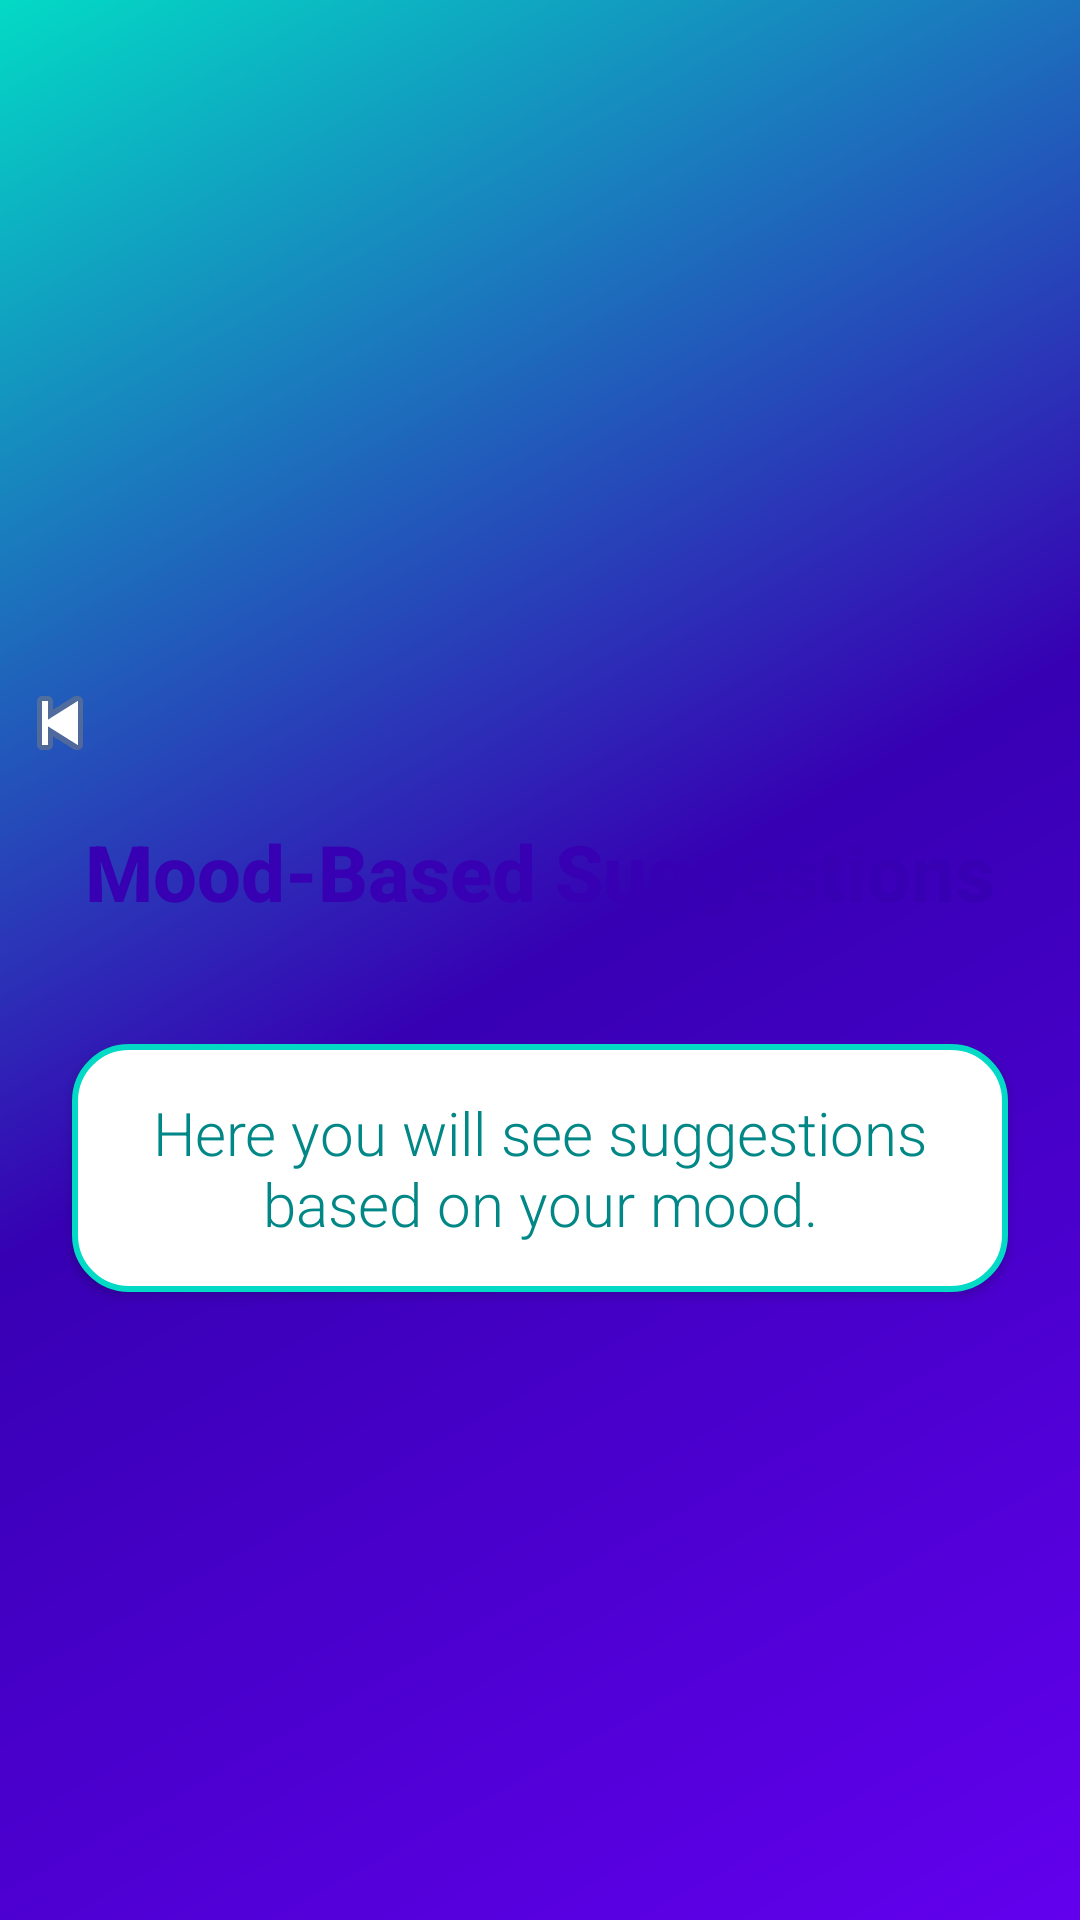

Icon bounding boxes for this 1080 x 1920 phone screenshot, format (x1, y1, x2, y2):
Back: (37, 696, 83, 750)
